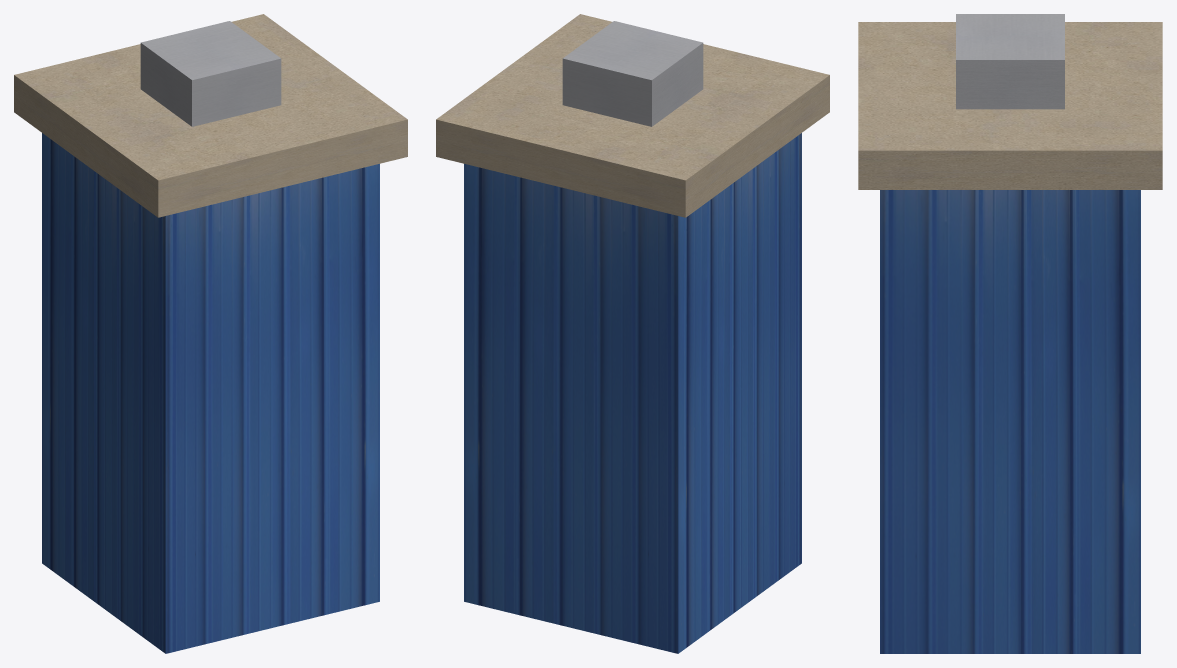
The model's file is Chimney.fbx.
3 views of the same model, side by side, from view 1: azimuth 30°, elevation 25°; view 2: azimuth 150°, elevation 25°; view 3: azimuth 270°, elevation 25° (orthographic). The views are drawn at different scales.
Visible parts, largest first — view 1: Chimney; view 2: Chimney; view 3: Chimney.
Part boxes in pixels (box(x1,y1,x2,y2)): Chimney: box(14, 14, 407, 653); Chimney: box(436, 14, 829, 653); Chimney: box(858, 14, 1162, 653).
Size of the model in its own units: 0.7 by 1.43 by 0.7.
